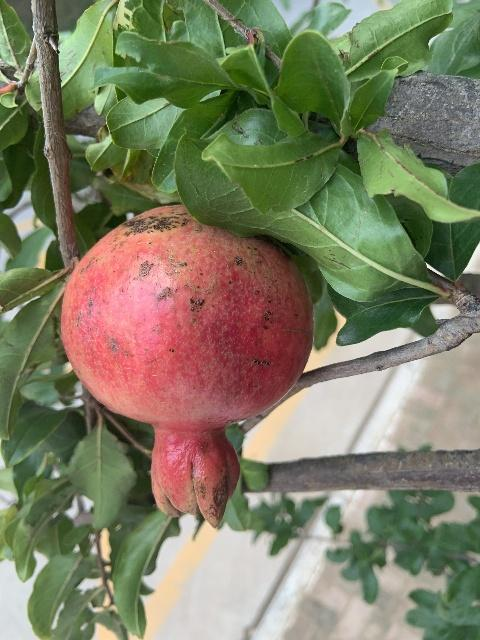ripe: (61, 205, 315, 526)
